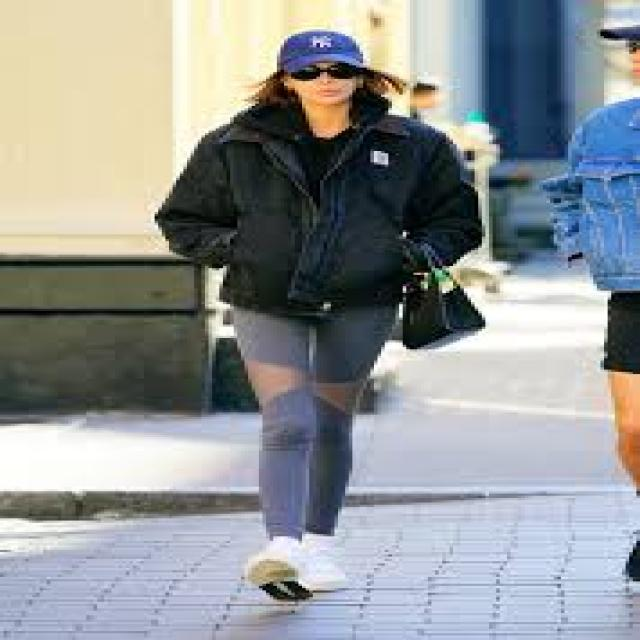3_gorra: (272, 28, 370, 70)
